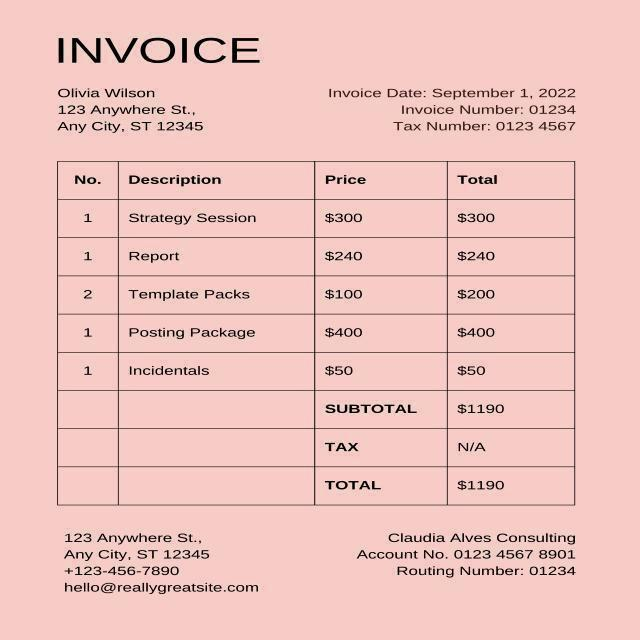paragraph: (314, 391, 538, 503), (59, 524, 272, 613), (345, 519, 589, 591), (313, 82, 614, 139), (55, 83, 218, 138), (51, 28, 266, 69)
table: (52, 162, 578, 387)
